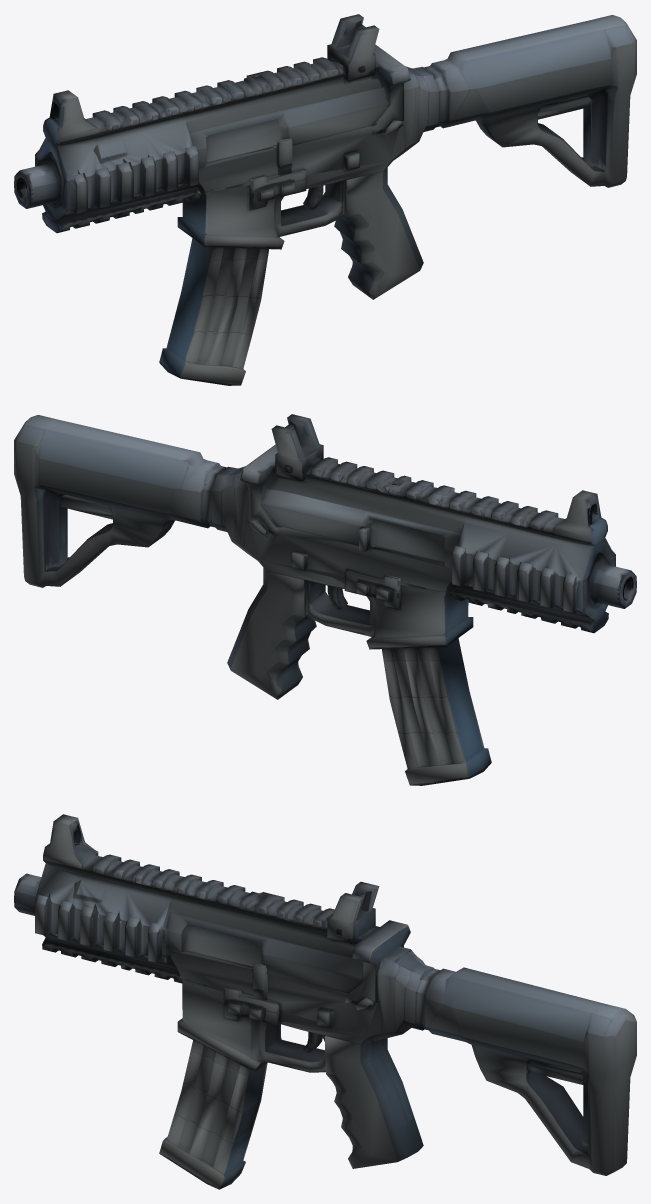
Rendered from PDW Weapons Low Poly Model.glb.
3 views of the same model, one above another, from view 1: azimuth 30°, elevation 25°; view 2: azimuth 150°, elevation 25°; view 3: azimuth 330°, elevation 25° (orthographic).
Visible parts, largest first — view 1: material; view 2: material; view 3: material.
Boxes of the visible parts, x1=… form: material: x1=14, y1=14, x2=636, y2=385; material: x1=14, y1=414, x2=636, y2=785; material: x1=14, y1=814, x2=636, y2=1189.
Bounding box in the file's own units: 1.9 × 0.9744 × 0.2285.
1 material, 1 textured.
